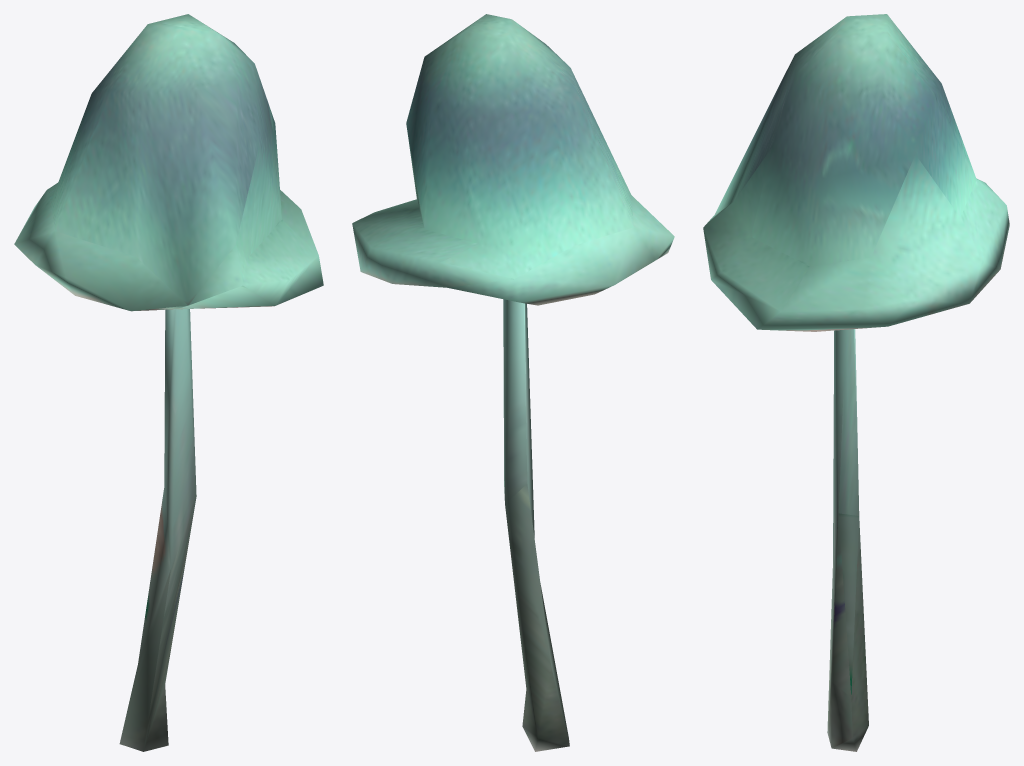
File: fungus-teal-small-b.gltf
3 renders of one model, left to right at view 1: azimuth 30°, elevation 25°; view 2: azimuth 150°, elevation 25°; view 3: azimuth 270°, elevation 25°, orthographic. The views are drawn at different scales.
Visible parts, largest first — view 1: fungus-teal-small-b; view 2: fungus-teal-small-b; view 3: fungus-teal-small-b.
Part boxes in pixels (<box>): fungus-teal-small-b: <box>14,14,323,751</box>; fungus-teal-small-b: <box>352,14,674,751</box>; fungus-teal-small-b: <box>703,14,1009,751</box>.
Size of the model in its own units: 0.1924 by 0.4818 by 0.1786.
Materials: 1 (1 with a texture image).
